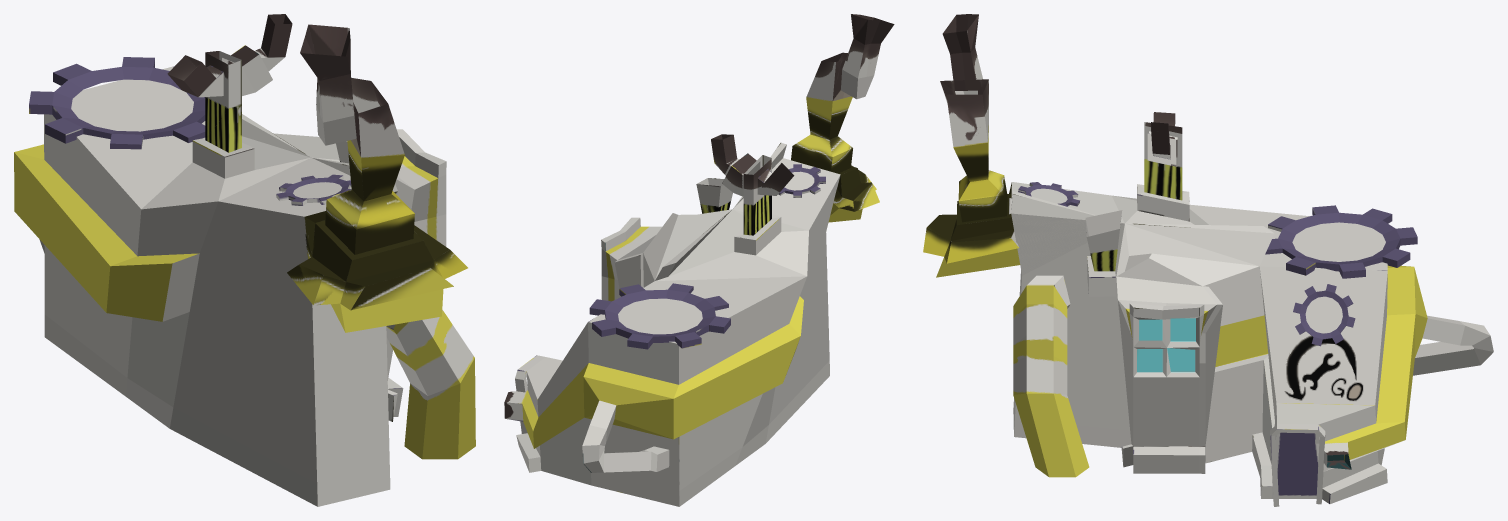
File: UpgradeBuilding.fbx
3 views of the same model, side by side, from view 1: azimuth 30°, elevation 25°; view 2: azimuth 150°, elevation 25°; view 3: azimuth 270°, elevation 25° (orthographic). The views are drawn at different scales.
Parts seen in each view (by area): view 1: Building; view 2: Building; view 3: Building.
Part boxes in pixels (x1,y1,x2,y2): Building: (14,14,475,506); Building: (504,14,894,506); Building: (923,14,1493,506).
Size of the model in its own units: 4.86 by 7.02 by 9.32.
Materials: 1 (1 with a texture image).
